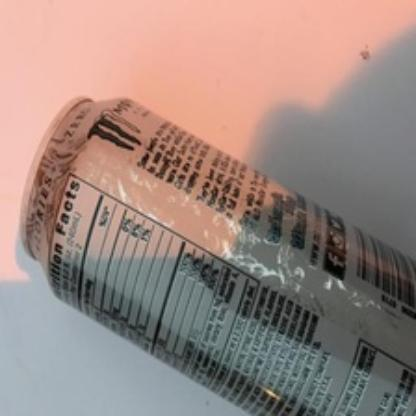Can: (24, 96, 416, 416)
